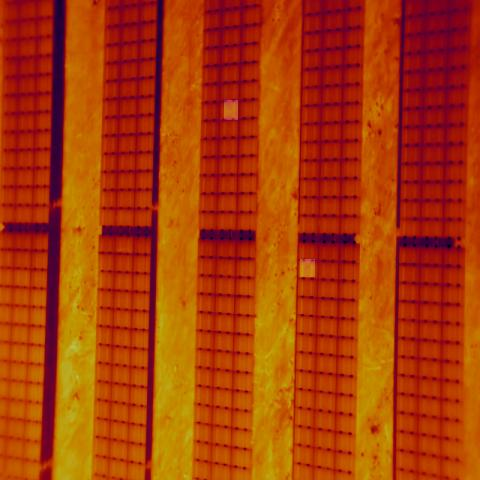fault: (224, 100, 238, 120), (300, 259, 315, 277)
